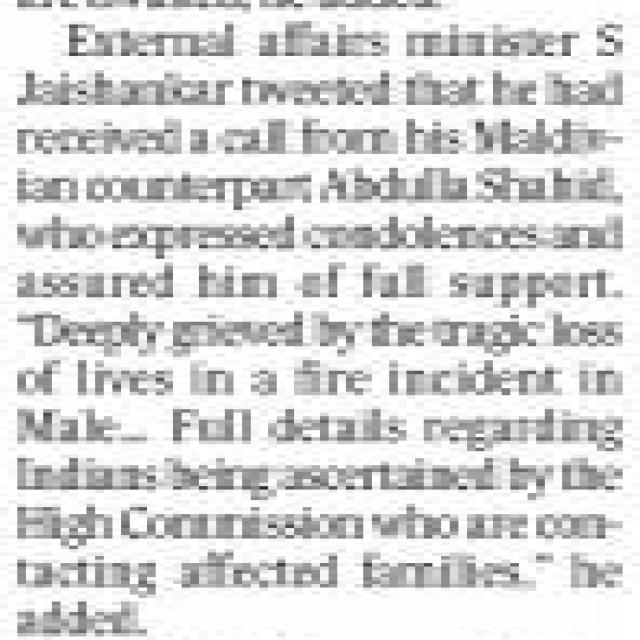paper: (8, 3, 640, 639)
